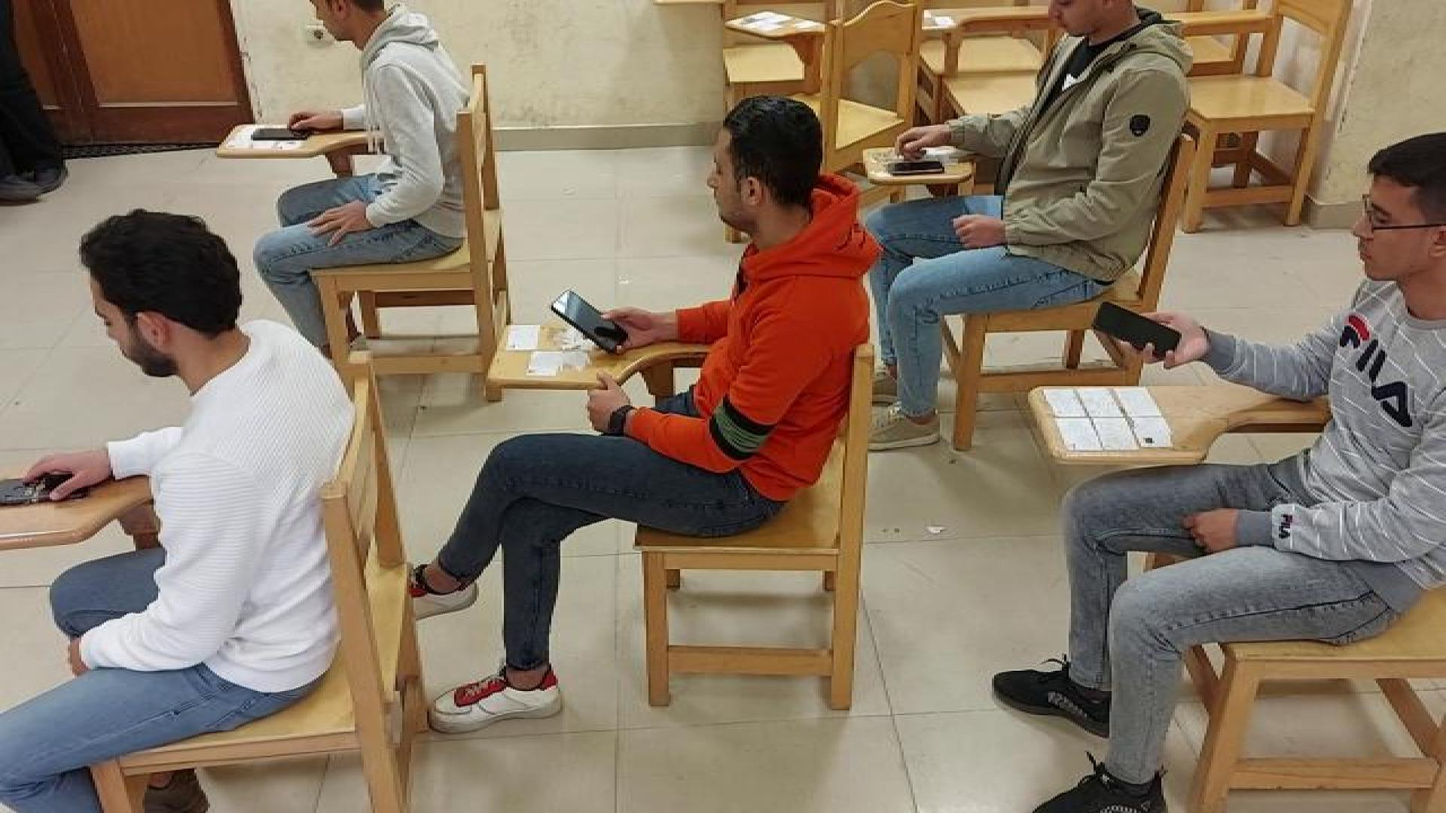phone: (1091, 302, 1188, 363), (552, 287, 629, 356), (1, 469, 96, 505), (880, 158, 948, 182), (251, 121, 316, 145)
